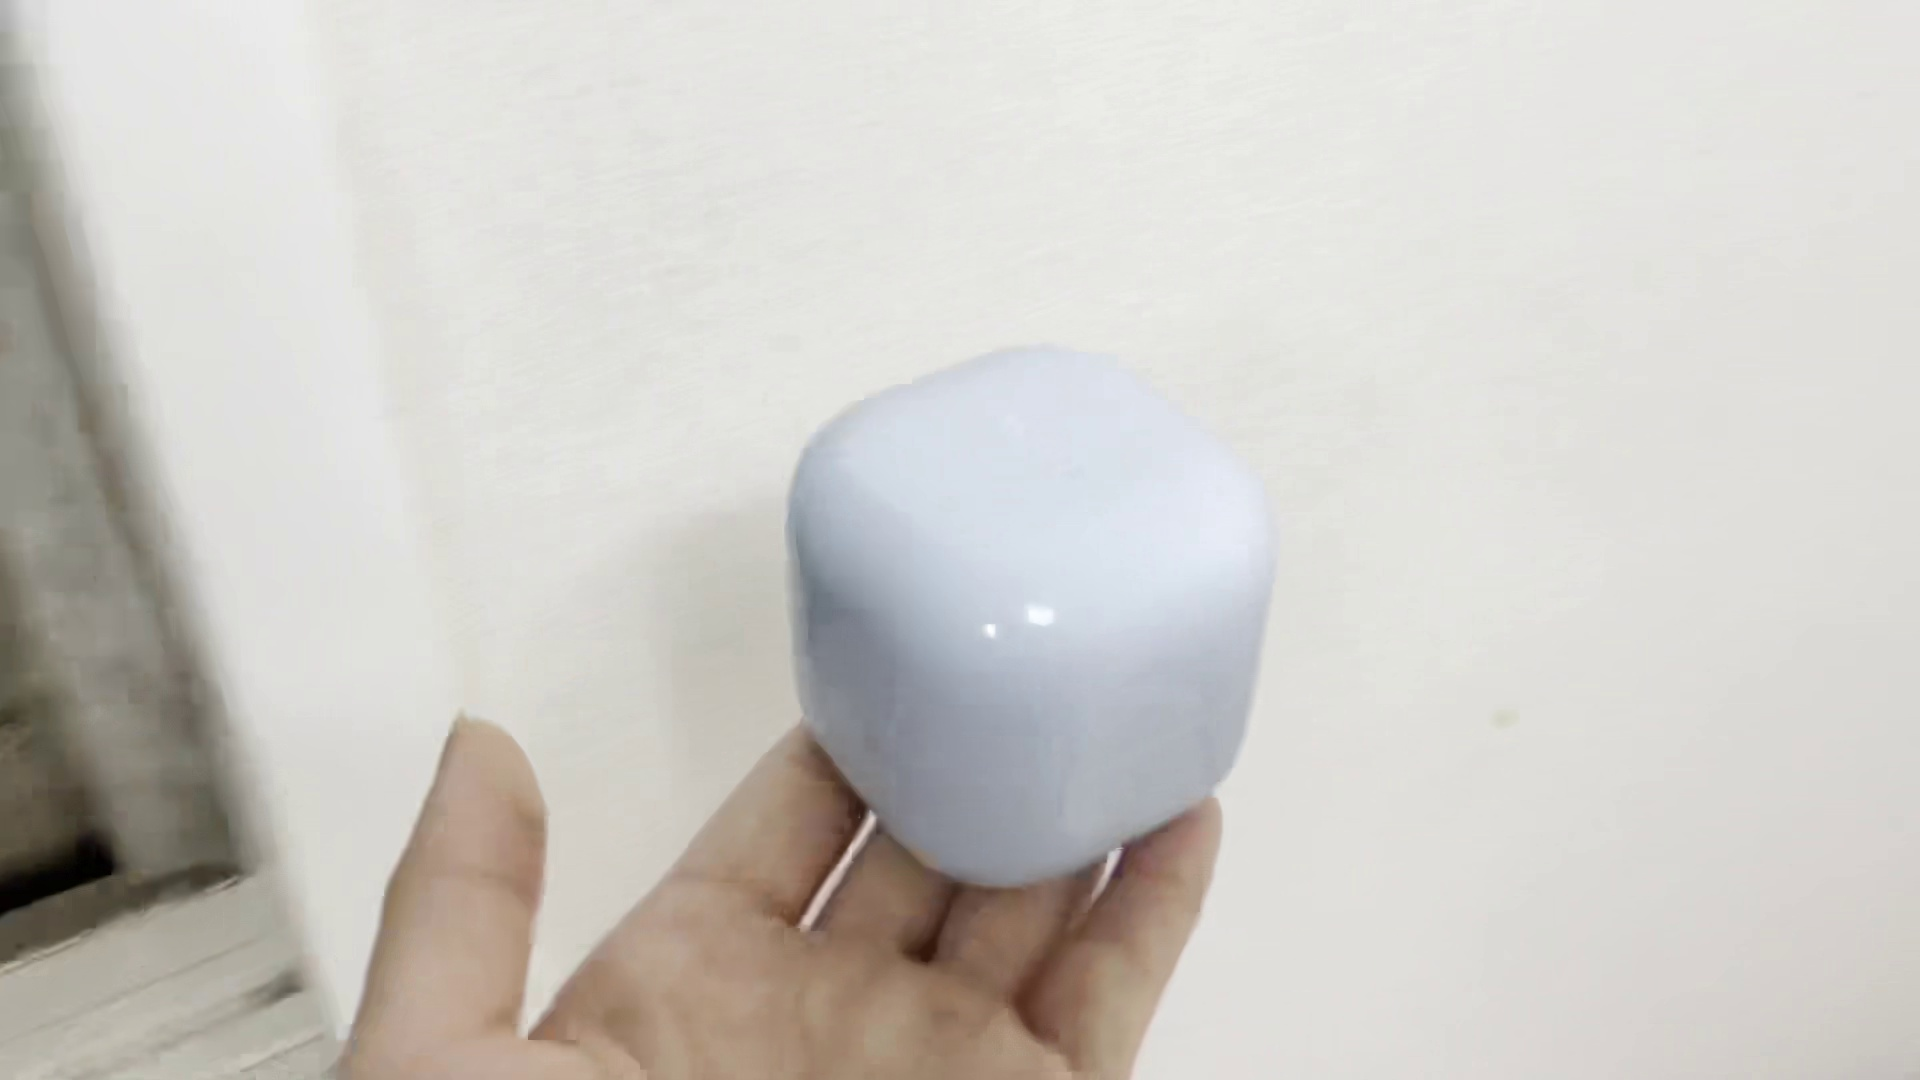cream: (781, 348, 1269, 880)
